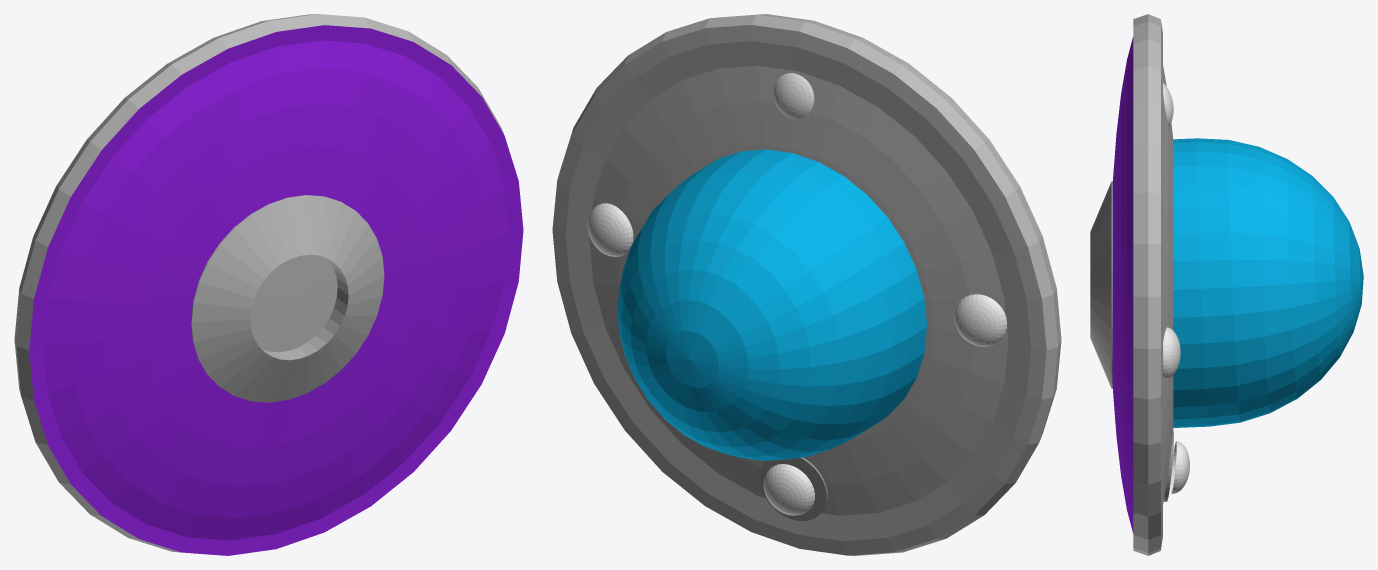
The model's file is Nave002.1.fbx.
3 renders of one model, left to right at view 1: azimuth 30°, elevation 25°; view 2: azimuth 150°, elevation 25°; view 3: azimuth 270°, elevation 25°, orthographic. The views are drawn at different scales.
Visible parts, largest first — view 1: Sphere.001; view 2: Sphere.001, Sphere, Sphere.006, Sphere.003, Sphere.005, Sphere.004, Circle.001; view 3: Sphere, Sphere.001, Sphere.003, Sphere.005.
Part boxes in pixels (<box>): Sphere.001: <box>14,14,523,555</box>; Sphere.001: <box>552,14,1061,555</box>; Sphere: <box>617,149,926,460</box>; Sphere.006: <box>954,294,1007,346</box>; Sphere.003: <box>763,464,814,515</box>; Sphere.005: <box>587,203,633,256</box>; Sphere.004: <box>773,73,814,118</box>; Circle.001: <box>759,457,827,521</box>; Sphere: <box>1173,138,1363,427</box>; Sphere.001: <box>1090,14,1173,555</box>; Sphere.003: <box>1170,441,1189,493</box>; Sphere.005: <box>1163,327,1180,379</box>.
Bounding box in the file's own units: 376 × 376 × 189.
